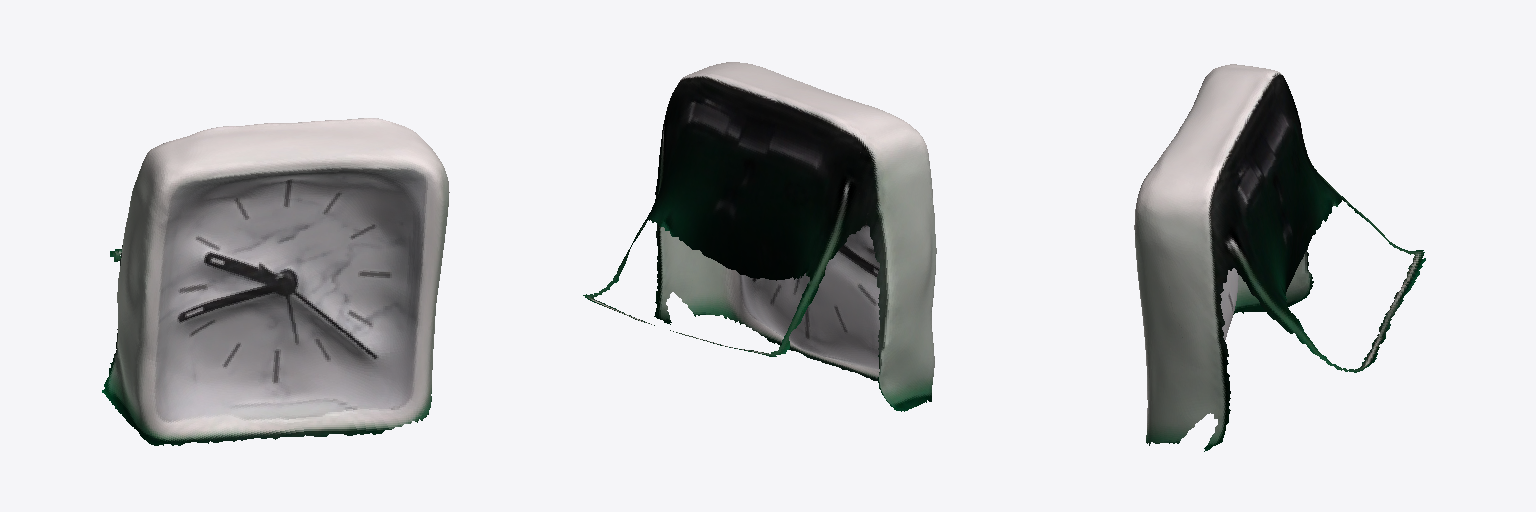
3 renders of one model, left to right at view 1: azimuth 30°, elevation 25°; view 2: azimuth 150°, elevation 25°; view 3: azimuth 270°, elevation 25°, orthographic.
Bounding box in the file's own units: 16.08 × 15.61 × 14.02.
Materials: 1 (1 with a texture image).